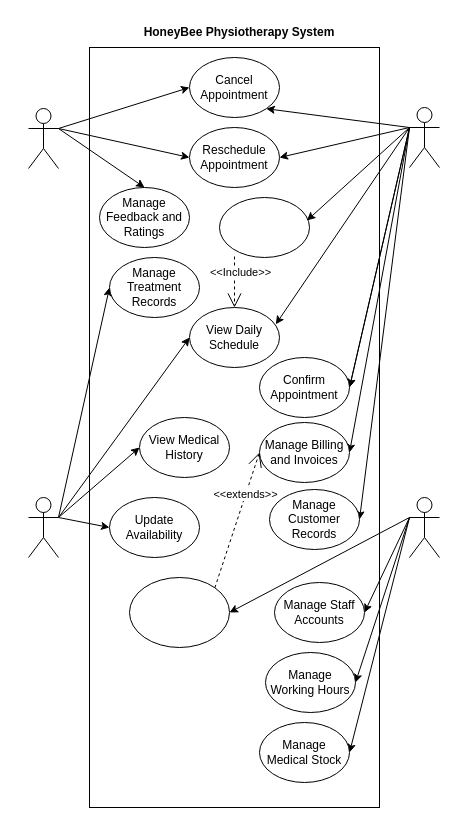
Image size: 474x825. Some labels were removed from this diagram. Each missing label, with the centre of its shape:
"Book Appointment" belongs at [264,227].
"Customer" belongs at [43,138].
"Generate System Reports" belongs at [179,612].
"Manager" belongs at [424,527].
"Receptionist" belongs at [424,137].
"Therapist" belongs at [43,527].
